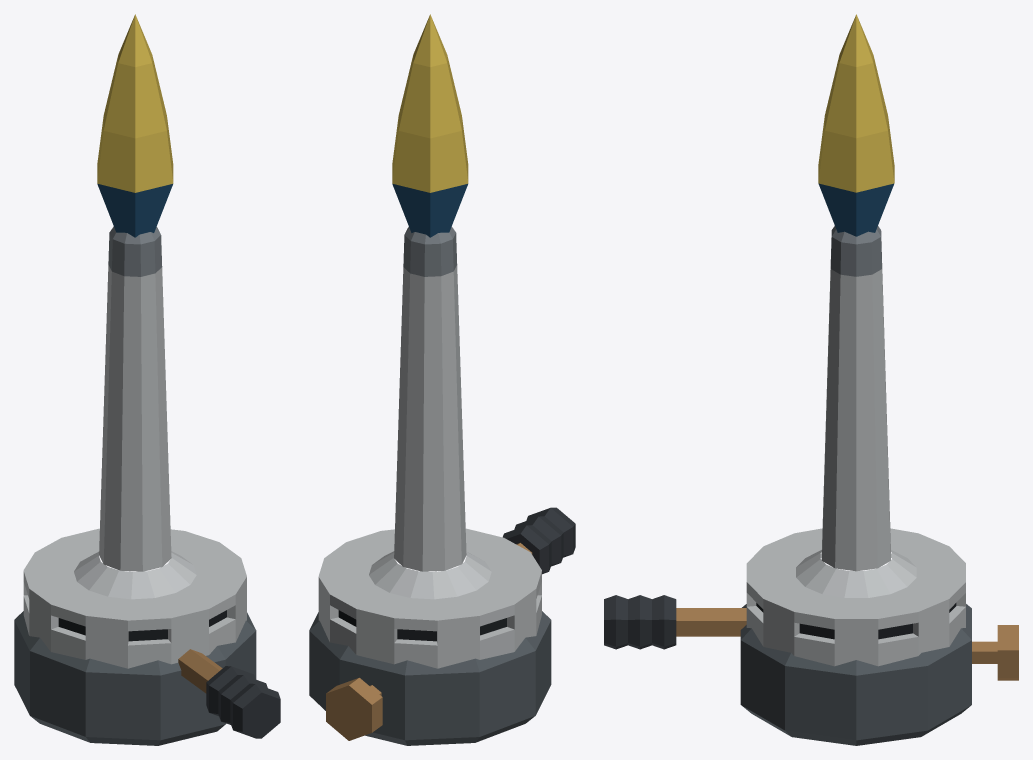
Rendered from bunsen-burner-445465.glb.
The picture shows the model from 3 angles, left to right: view 1: azimuth 30°, elevation 25°; view 2: azimuth 150°, elevation 25°; view 3: azimuth 270°, elevation 25°; orthographic projection.
Parts seen in each view (by area): view 1: burner-body, flame-mesh, hose-mesh; view 2: burner-body, flame-mesh, hose-mesh; view 3: burner-body, flame-mesh, hose-mesh.
Boxes of the visible parts, x1,y1,x2,y2 form: burner-body: [14, 226, 256, 745]; flame-mesh: [97, 14, 173, 237]; hose-mesh: [206, 666, 280, 738]; burner-body: [309, 226, 551, 745]; flame-mesh: [392, 14, 468, 237]; hose-mesh: [503, 507, 575, 574]; burner-body: [676, 226, 1018, 745]; flame-mesh: [818, 14, 894, 236]; hose-mesh: [604, 595, 676, 649].
Bounding box in the file's own units: 0.0688 × 0.214 × 0.1174.
